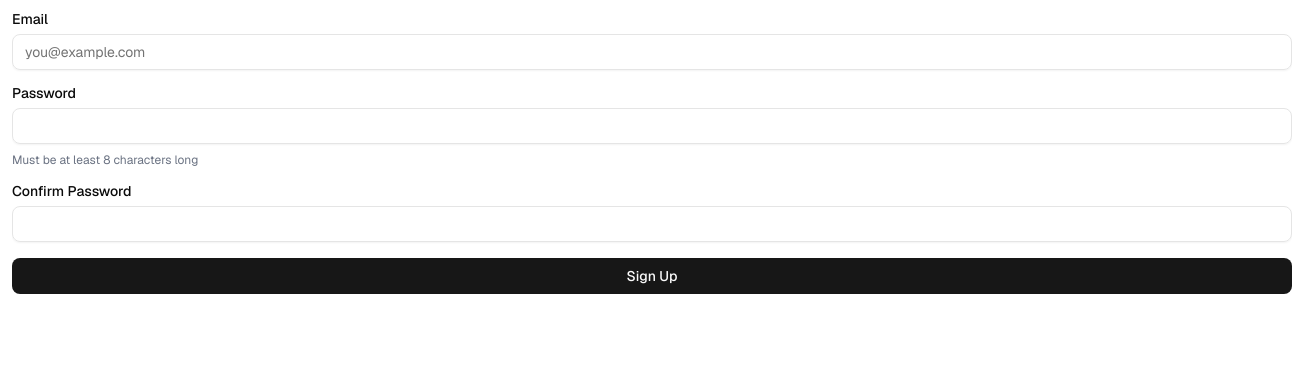
Test: shows server error message when signUp fails
Type "user@example.com" into the field labelled "Email" at [652, 52], box x1=12 y1=34 x2=1292 y2=70
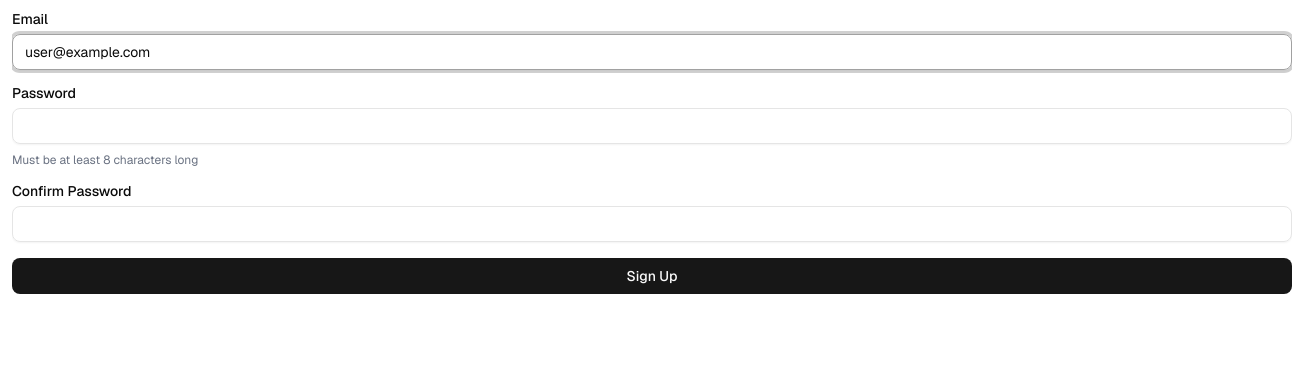
Type "password123" into the password field labelled "Password" at [652, 126], box x1=12 y1=108 x2=1292 y2=144
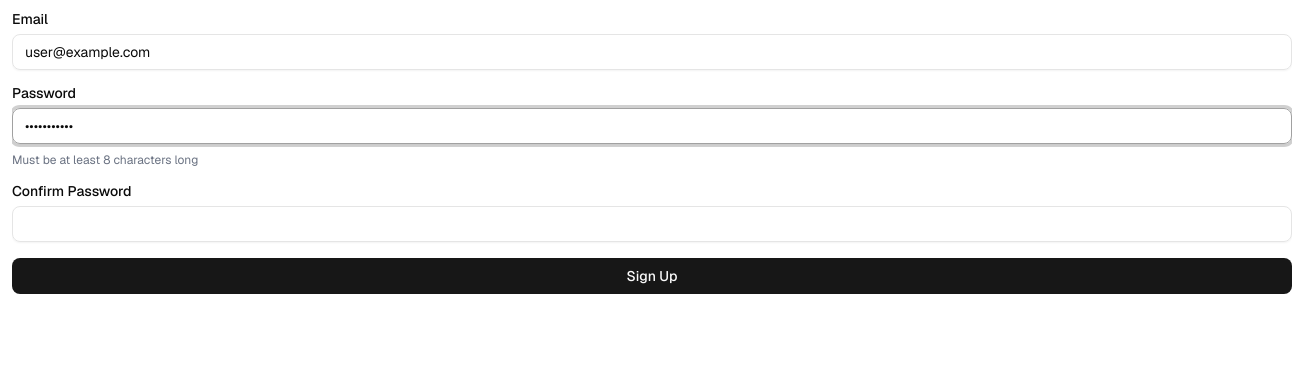
Type "password123" into the password field labelled "Confirm Password" at [652, 224], box x1=12 y1=206 x2=1292 y2=242
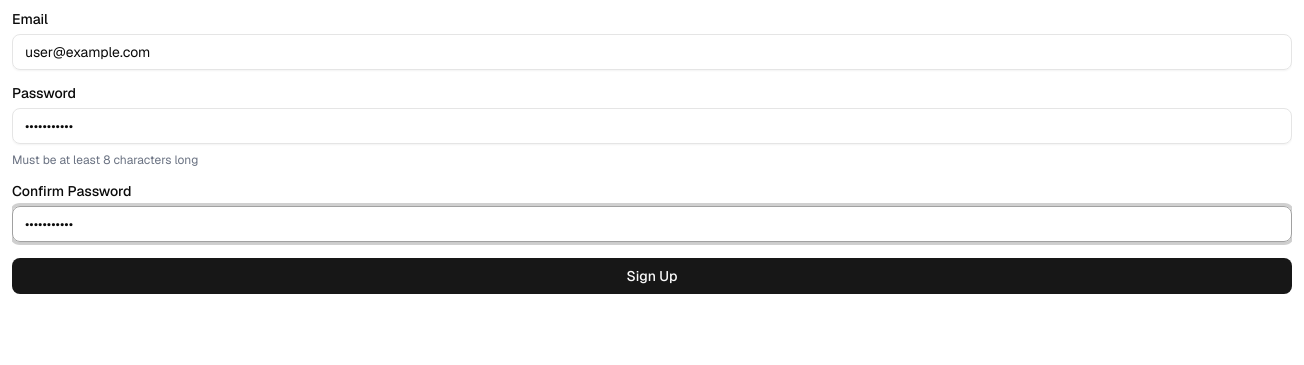
Submit the form
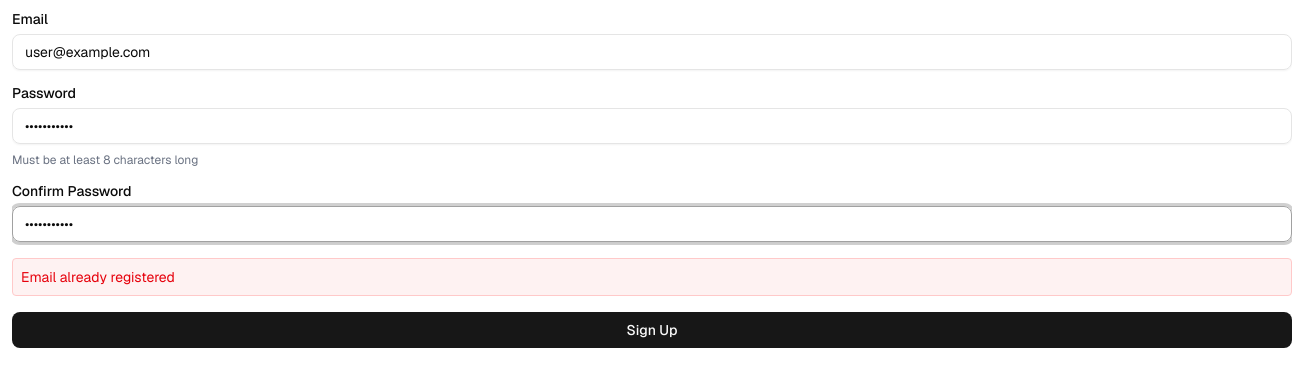
Expected: the text "Email already registered" is shown, x1=12 y1=258 x2=1292 y2=296
